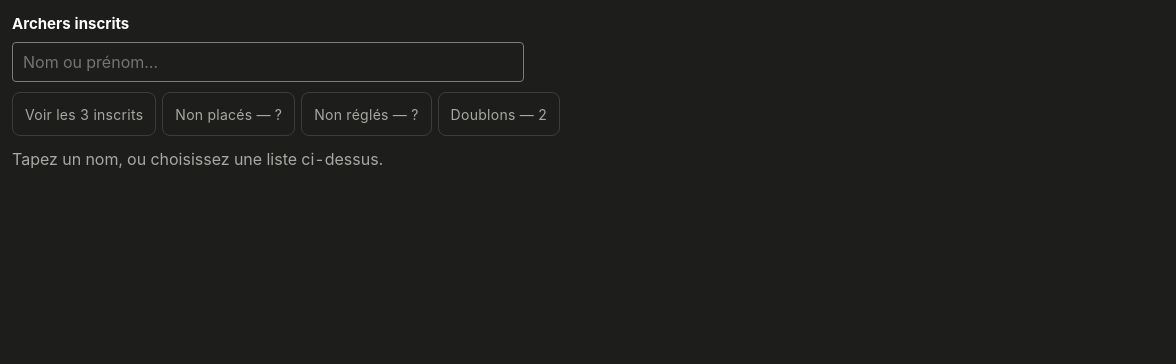
Test case: signalement de doublon sur la ligne › CA — cliquer déplie l’ACTION sur place : c’est ce qui remplace l’écran dédié
The image size is (1176, 364).
Click the button "Voir les 3 inscrits": (84, 114) [12,92,156,136]
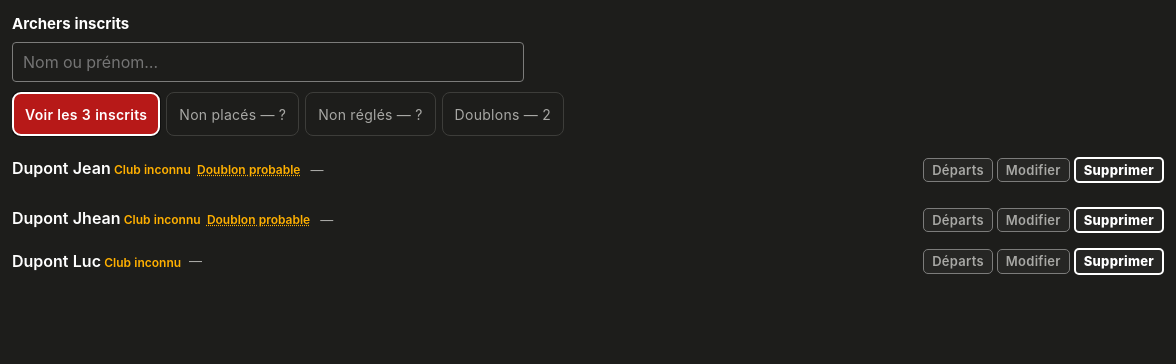
Expected: the button "Garder cette fiche" is not shown
Click the button "Doublon probable" in the row of "Dupont Jean": (249, 170) [195,148,302,192]
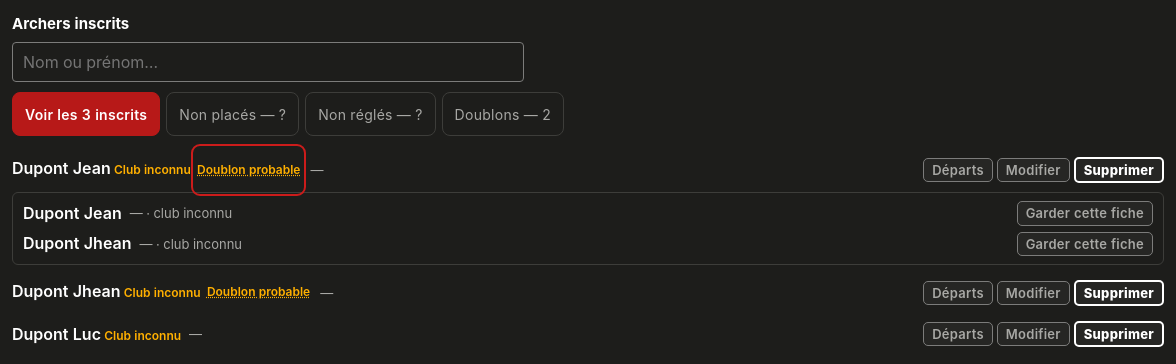
Now the number of buttons "Garder cette fiche" is 2, box [1017,201,1153,226]; [1017,232,1153,256]
